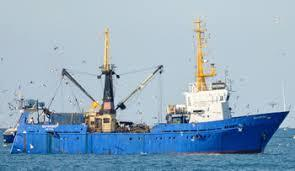Ship: (7, 22, 292, 159)
